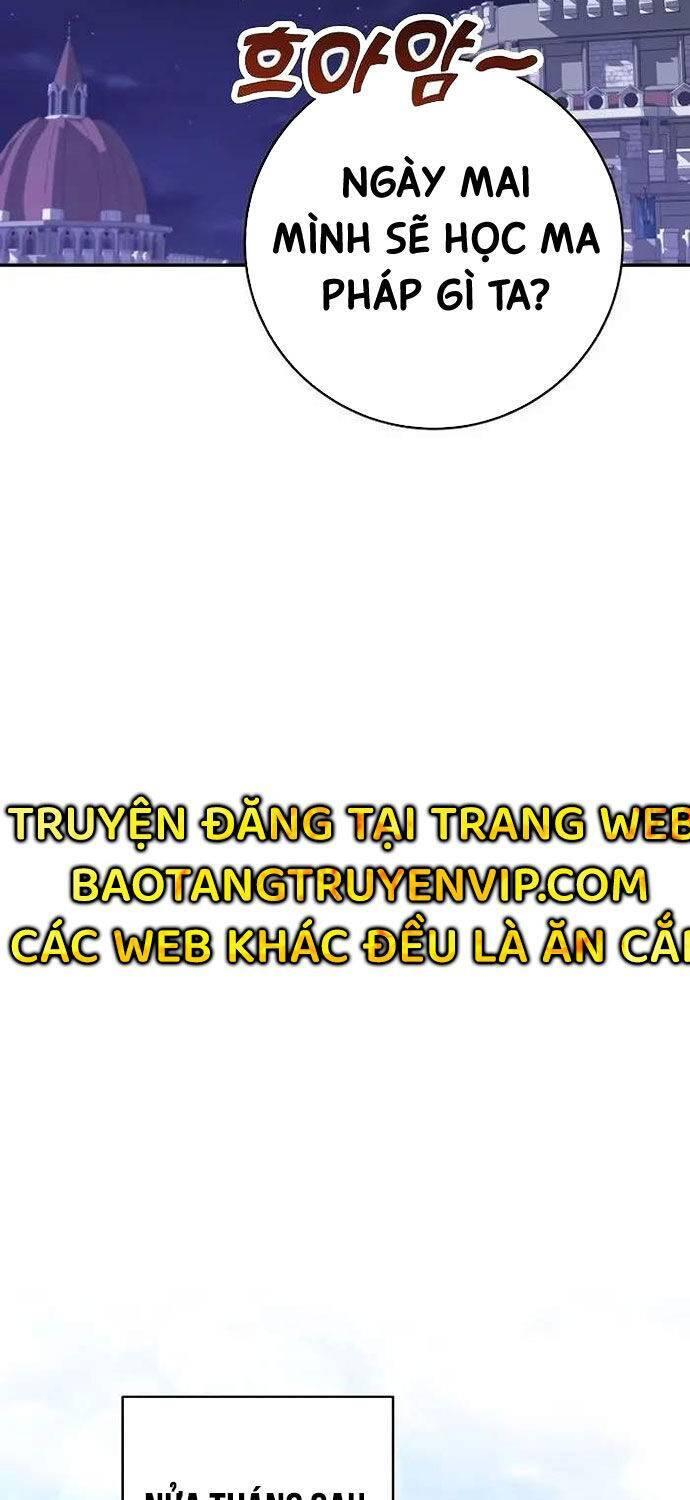quangcao: (0, 786, 690, 980)
